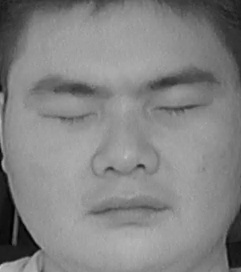blink: (42, 99, 97, 134), (154, 91, 202, 126)
mouth: (88, 184, 171, 225)
